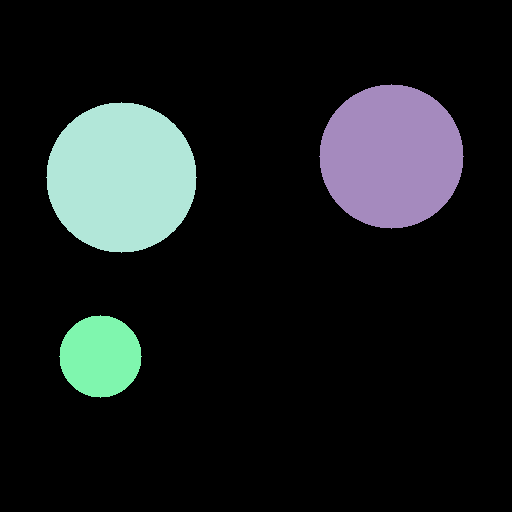circle: (46, 102, 196, 252), (319, 84, 463, 228), (59, 315, 141, 397)
